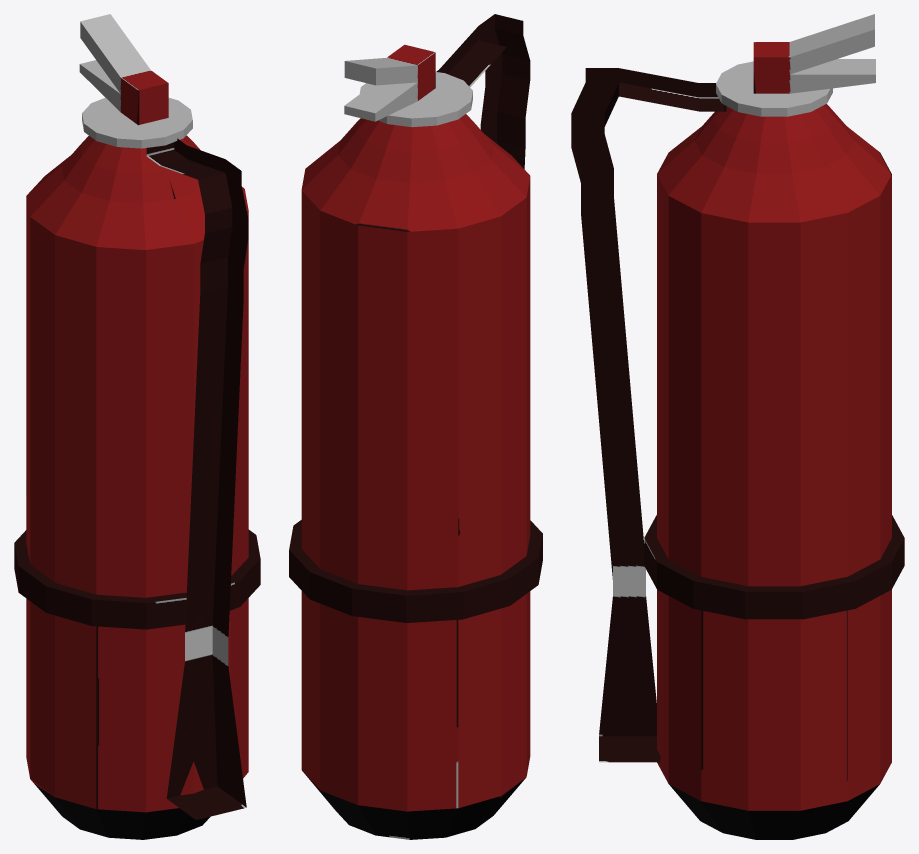
File: FireExtinguisher.glb
3 renders of one model, left to right at view 1: azimuth 30°, elevation 25°; view 2: azimuth 150°, elevation 25°; view 3: azimuth 270°, elevation 25°, orthographic. The views are drawn at different scales.
Visible parts, largest first — view 1: Cylinder; view 2: Cylinder; view 3: Cylinder.
Boxes of the visible parts, <box> form: Cylinder: <box>14,14,260,839</box>; Cylinder: <box>289,14,542,839</box>; Cylinder: <box>571,14,904,839</box>.
Size of the model in its own units: 0.1787 by 0.626 by 0.2346.
1 material, 1 textured.
